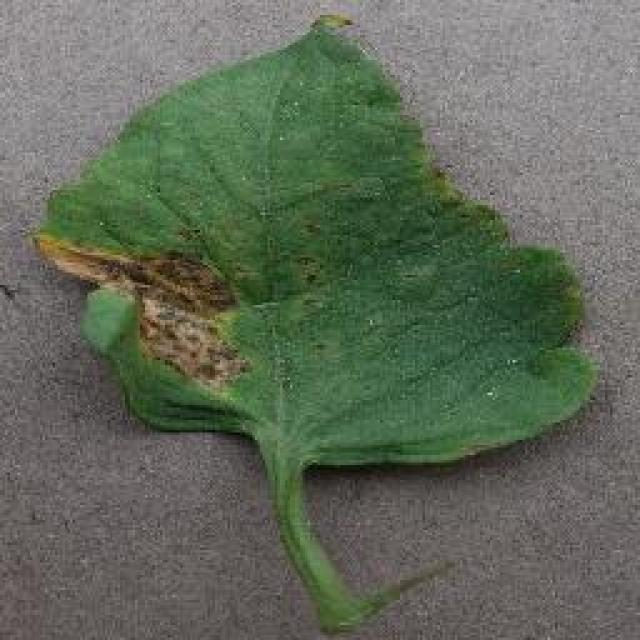Tomato bacterial spot leaf: (24, 6, 604, 476)
